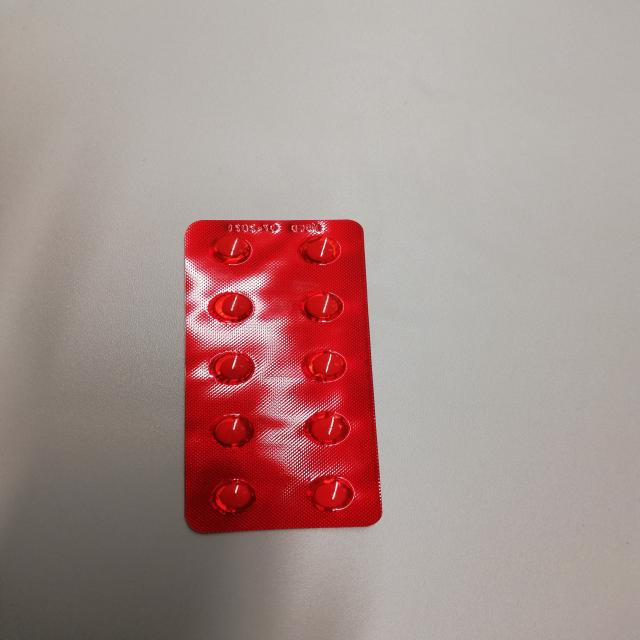Pill: (204, 280, 265, 332), (204, 346, 270, 393), (300, 471, 372, 512), (200, 406, 267, 450), (296, 404, 358, 450), (285, 229, 350, 272), (198, 228, 258, 268), (204, 474, 259, 516), (304, 344, 354, 385), (292, 289, 352, 323)
